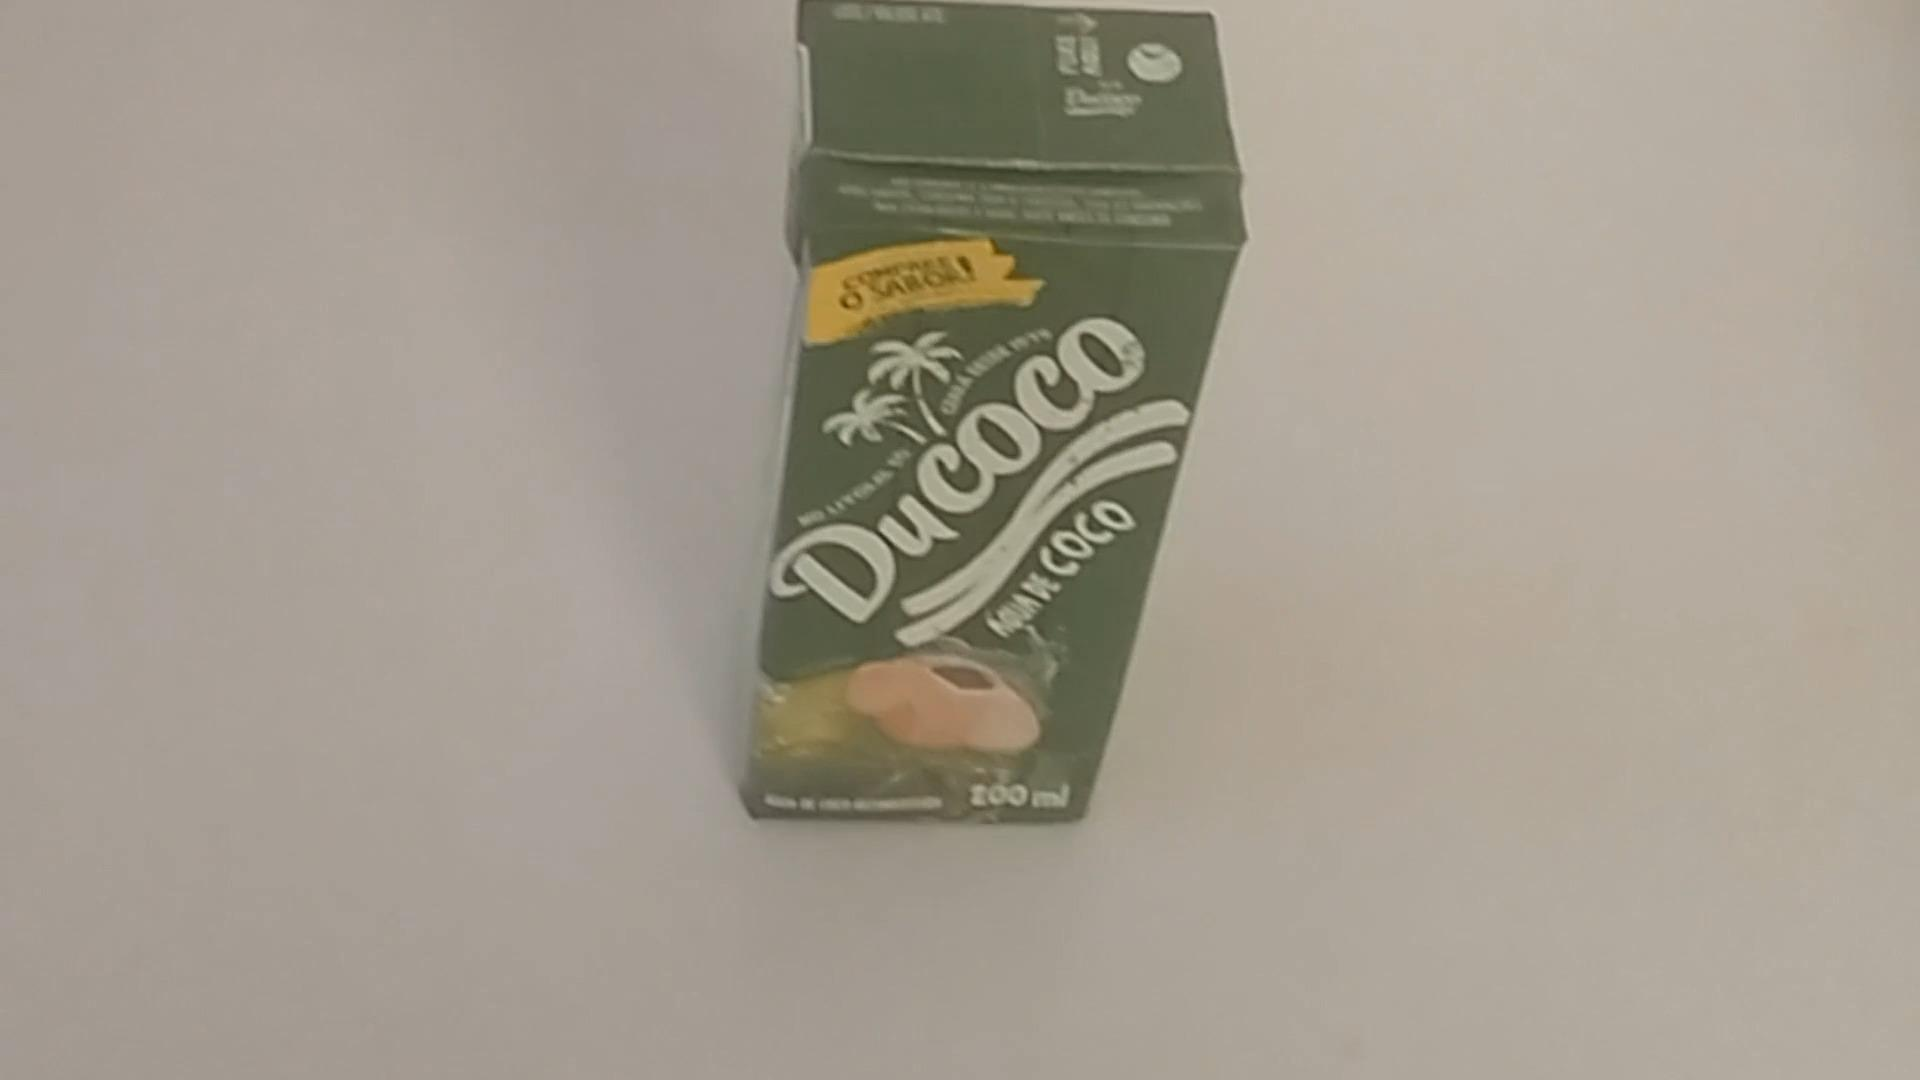coco: (736, 1, 1240, 835)
